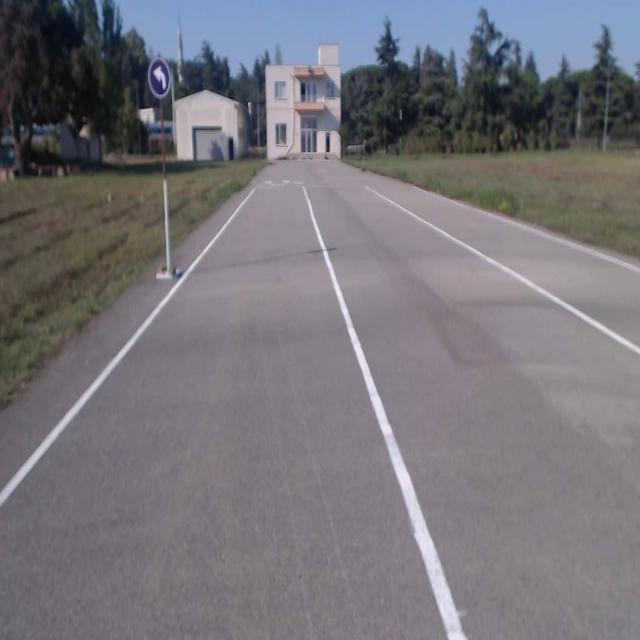sol: (148, 57, 170, 97)
